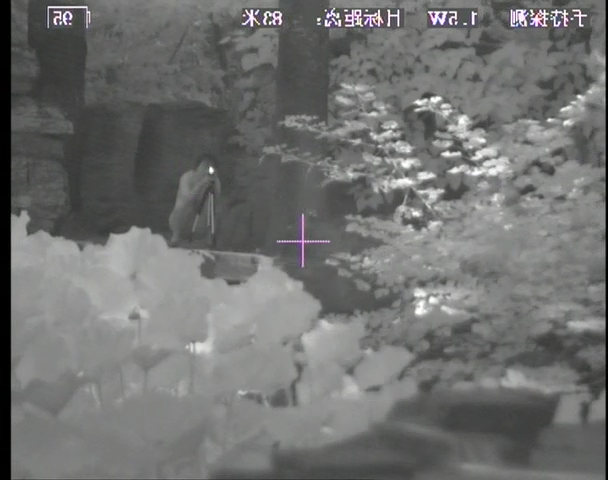my: (208, 166, 216, 175)
